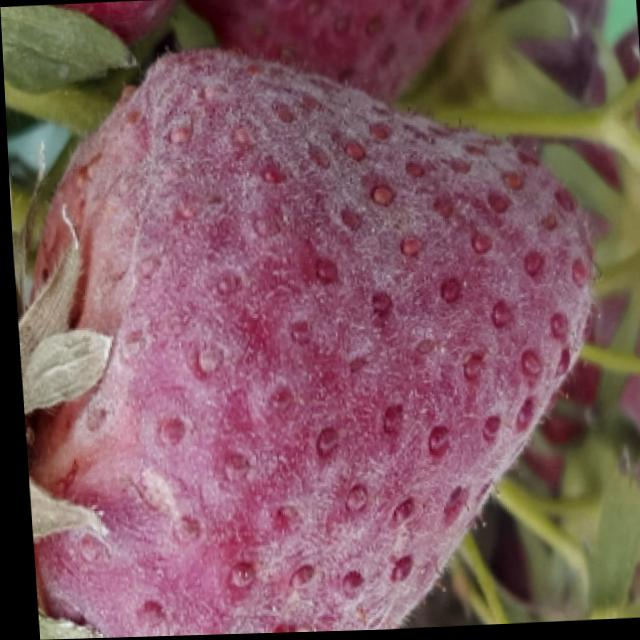Powdery Mildew Fruit: (12, 44, 596, 640), (0, 0, 176, 70)
